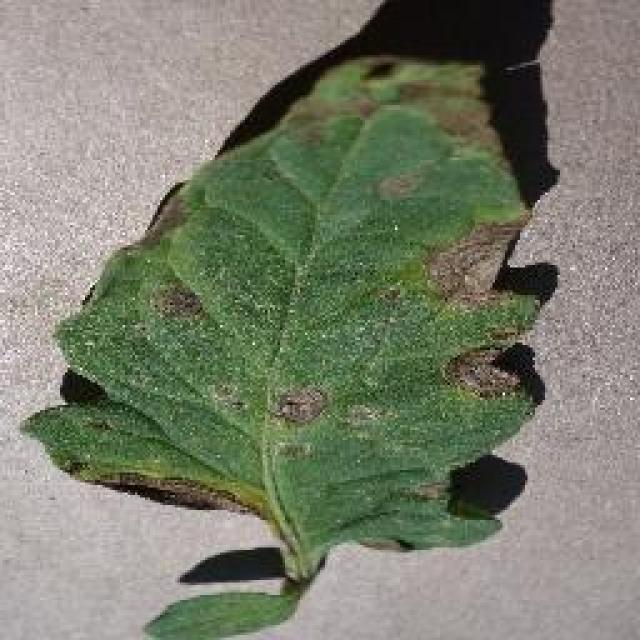Tomato Early blight leaf: (34, 49, 548, 606)
